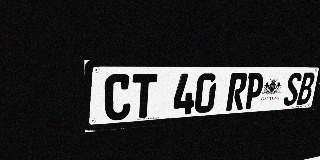0: (194, 73, 218, 114)
4: (172, 73, 197, 115)
B: (296, 72, 316, 105)
C: (104, 74, 132, 121)
P: (243, 73, 265, 109)
R: (226, 73, 248, 111)
S: (283, 73, 303, 106)
T: (131, 74, 157, 119)
